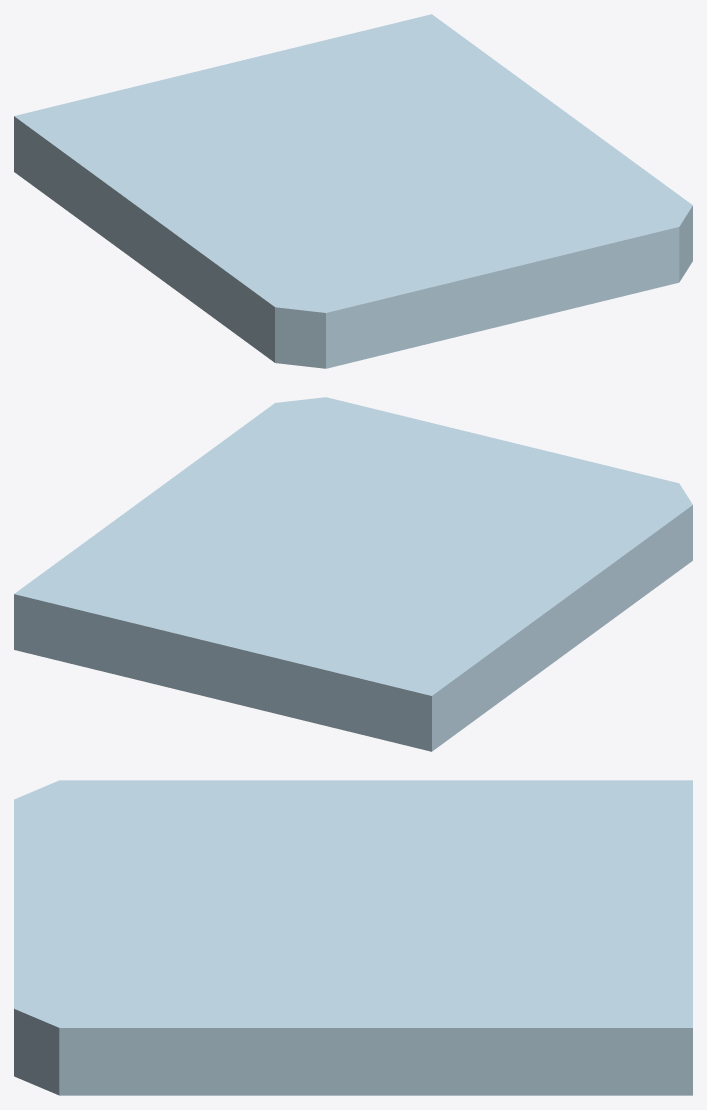
The model's file is STAM - M1-0.gltf.
The picture shows the model from 3 angles, top to bottom: view 1: azimuth 30°, elevation 25°; view 2: azimuth 150°, elevation 25°; view 3: azimuth 270°, elevation 25°; orthographic projection. The views are drawn at different scales.
Visible parts, largest first — view 1: M1-0; view 2: M1-0; view 3: M1-0.
Boxes of the visible parts, x1=… form: M1-0: x1=14, y1=14, x2=692, y2=368; M1-0: x1=14, y1=397, x2=692, y2=751; M1-0: x1=14, y1=780, x2=692, y2=1095.
Size of the model in its own units: 0.0129 by 0.00165 by 0.015.
